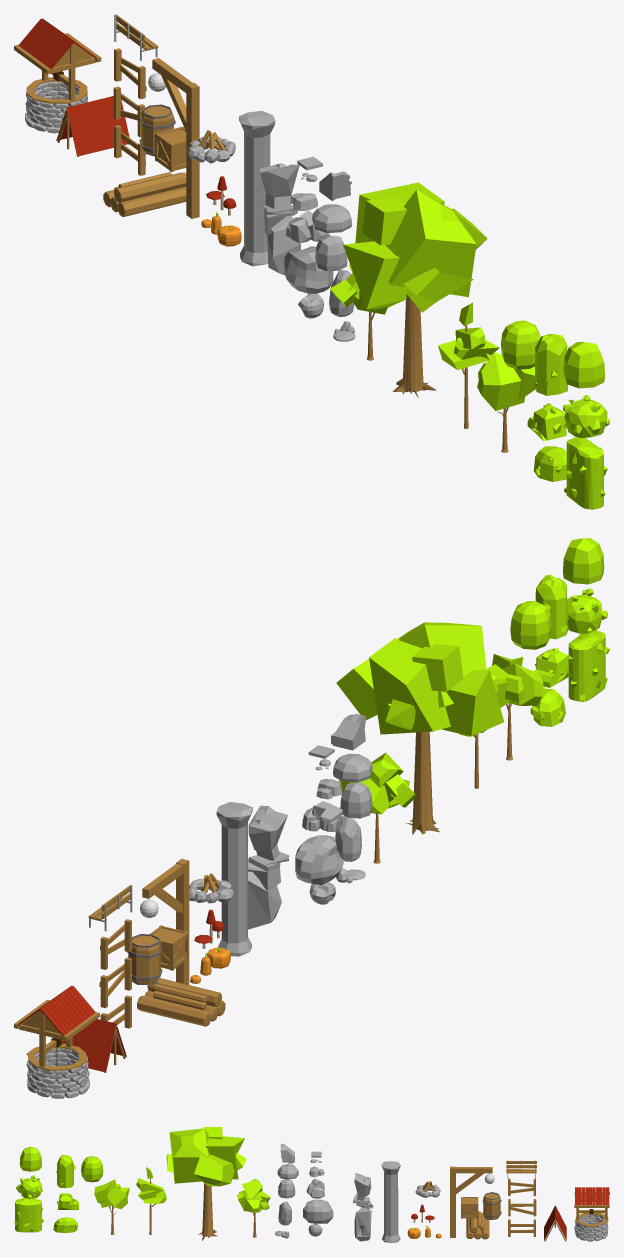
The model's file is Assets For Golf.fbx.
3 views of the same model, one above another, from view 1: azimuth 30°, elevation 25°; view 2: azimuth 150°, elevation 25°; view 3: azimuth 270°, elevation 25° (orthographic). The views are drawn at different scales.
Visible parts, largest first — view 1: Tree Foliage B, Pillar B, Pillar A, Lamp Post, Tent, Log Pile, Bush E, Tree Foliage D, Well Wood, Tree Foliage C, Tree Trunk B, Well Stones (+18 smaller); view 2: Tree Foliage B, Pillar B, Pillar A, Log Pile, Bush E, Well Stones, Well Wood, Lamp Post, Tree Foliage D, Tree Foliage A, Rock E, Tree Trunk B (+18 smaller); view 3: Tree Foliage B, Pillar B, Pillar A, Bush E, Lamp Post, Tree Foliage A, Tree Foliage D, Well Stones, Rock E, Well Roof, Tree Foliage C, Tree Trunk B (+21 smaller).
Boxes of the visible parts, box(x1,y1,x2,y2) form: Tree Foliage B: box(343, 182, 487, 312); Pillar B: box(239, 110, 275, 266); Pillar A: box(260, 163, 300, 275); Lamp Post: box(152, 58, 199, 218); Tent: box(56, 96, 129, 156); Log Pile: box(103, 172, 186, 216); Bush E: box(564, 437, 607, 509); Tree Foliage D: box(477, 352, 535, 410); Well Wood: box(14, 33, 101, 103); Tree Foliage C: box(438, 302, 499, 369); Tree Trunk B: box(393, 294, 436, 397); Well Stones: box(25, 81, 87, 133); Tree Foliage B: box(336, 622, 503, 736); Pillar B: box(216, 802, 252, 956); Pillar A: box(248, 805, 289, 929); Log Pile: box(137, 978, 225, 1026); Bush E: box(568, 630, 609, 701); Well Stones: box(26, 1048, 89, 1098); Well Wood: box(14, 999, 99, 1070); Lamp Post: box(142, 858, 189, 984); Tree Foliage D: box(486, 654, 543, 707); Tree Foliage A: box(338, 752, 416, 814); Rock E: box(295, 835, 343, 884); Tree Trunk B: box(405, 731, 439, 834); Tree Foliage B: box(166, 1127, 246, 1186); Pillar B: box(381, 1161, 400, 1242); Pillar A: box(353, 1173, 373, 1241); Bush E: box(14, 1198, 44, 1232); Lamp Post: box(450, 1166, 492, 1237); Tree Foliage A: box(236, 1179, 270, 1212); Tree Foliage D: box(94, 1179, 129, 1209); Well Stones: box(574, 1214, 608, 1241); Rock E: box(303, 1199, 333, 1223); Well Roof: box(575, 1187, 609, 1204); Tree Foliage C: box(136, 1167, 166, 1203); Tree Trunk B: box(198, 1183, 217, 1240).
Bounding box in the file's own units: 631 × 892 × 4445.
